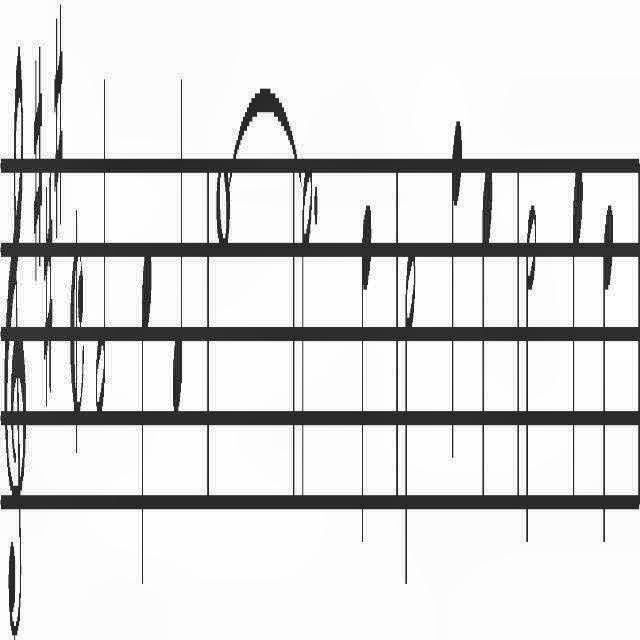Bass-clef: (2, 32, 30, 640)
Diez: (50, 0, 66, 252), (30, 18, 42, 318), (42, 135, 52, 433)
Full-note: (216, 161, 232, 261)
Half-note: (92, 52, 111, 464), (404, 223, 420, 592), (302, 128, 314, 544), (526, 172, 538, 560)
Quarter-note: (134, 220, 156, 630), (168, 39, 188, 480), (480, 124, 496, 536), (600, 197, 616, 561), (571, 135, 585, 519), (450, 103, 464, 481), (360, 193, 372, 575)
